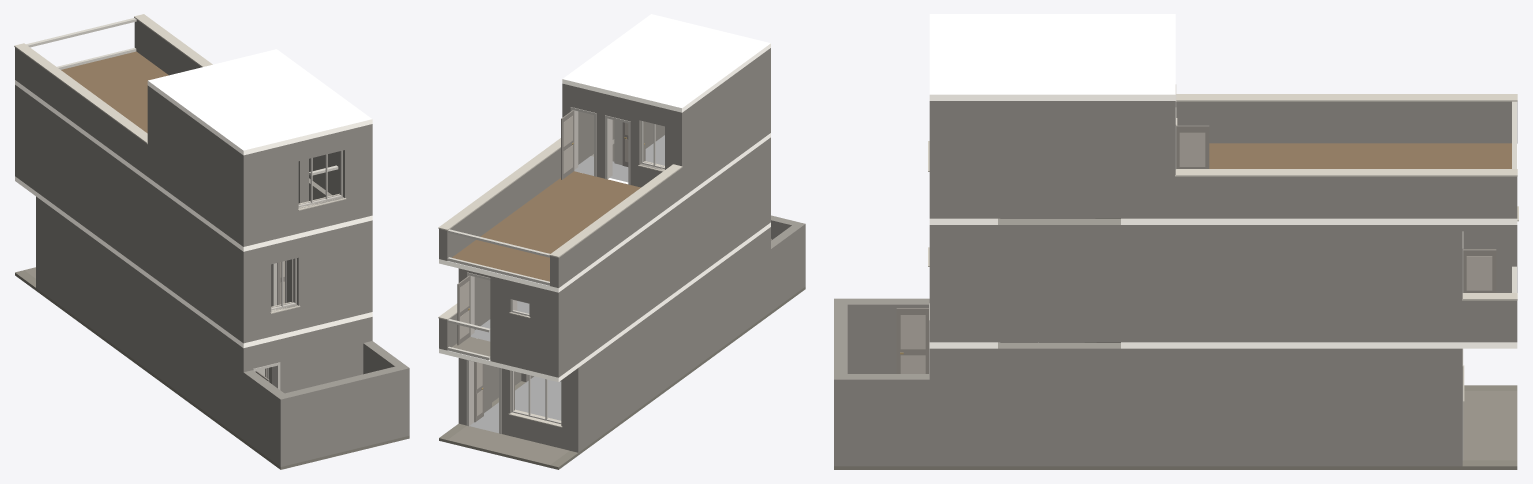
File: baked.glb
3 views of the same model, side by side, from view 1: azimuth 30°, elevation 25°; view 2: azimuth 150°, elevation 25°; view 3: azimuth 270°, elevation 25° (orthographic). The views are drawn at different scales.
Parts seen in each view (by area): view 1: baked|L0, baked|L2, baked|L1, baked|L3; view 2: baked|L2, baked|L0, baked|L1, baked|L3; view 3: baked|L0, baked|L2, baked|L1, baked|L3.
Part boxes in pixels (x1=…): baked|L0: x1=15, y1=196, x2=409, y2=469; baked|L2: x1=14, y1=14, x2=372, y2=251; baked|L1: x1=15, y1=85, x2=372, y2=348; baked|L3: x1=147, y1=49, x2=372, y2=155; baked|L2: x1=438, y1=48, x2=770, y2=292; baked|L0: x1=439, y1=215, x2=805, y2=469; baked|L1: x1=438, y1=137, x2=770, y2=381; baked|L3: x1=562, y1=14, x2=770, y2=112; baked|L0: x1=834, y1=298, x2=1517, y2=469; baked|L2: x1=928, y1=84, x2=1517, y2=224; baked|L1: x1=928, y1=206, x2=1518, y2=348; baked|L3: x1=929, y1=14, x2=1175, y2=100.
Size of the model in its own units: 14.08 by 30.3 by 50.12.
